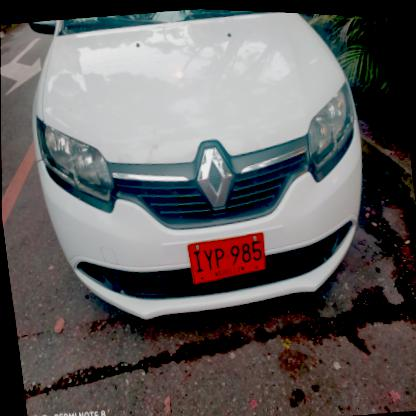placa: (181, 223, 273, 289)
